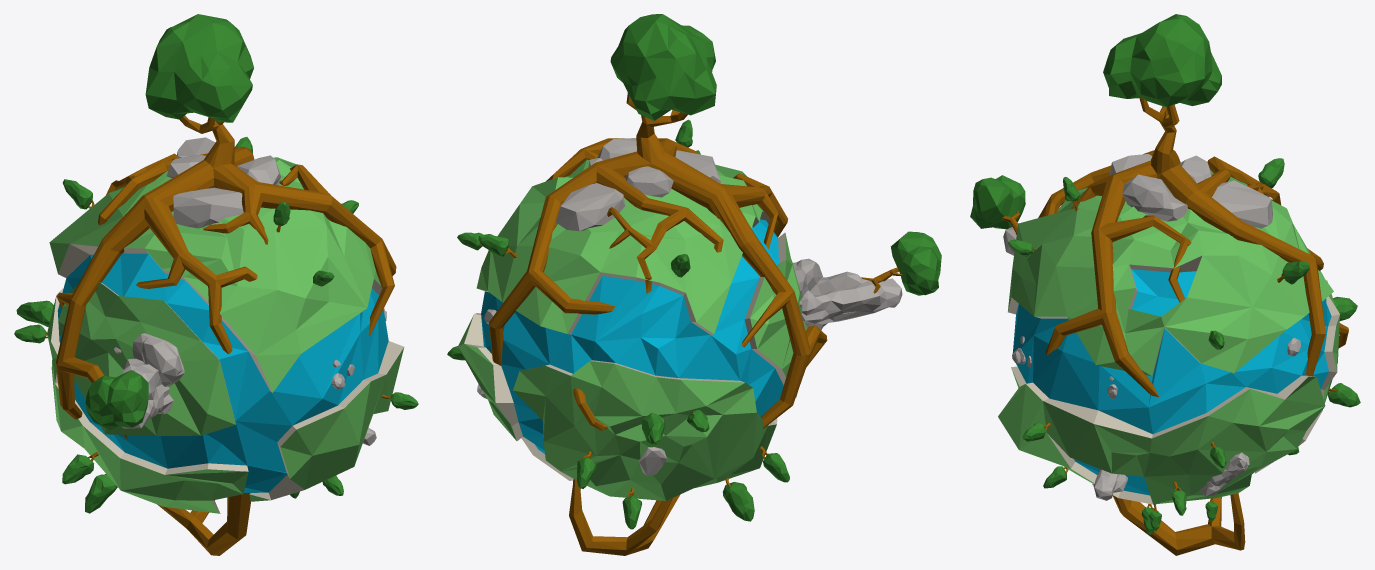
The model's file is Planet_vegetal.fbx.
The picture shows the model from 3 angles, left to right: view 1: azimuth 30°, elevation 25°; view 2: azimuth 150°, elevation 25°; view 3: azimuth 270°, elevation 25°; orthographic projection. The views are drawn at different scales.
Parts seen in each view (by area): view 1: Planet_vegetal; view 2: Planet_vegetal; view 3: Planet_vegetal.
Part boxes in pixels (x1=…): Planet_vegetal: x1=14, y1=14, x2=418, y2=555; Planet_vegetal: x1=447, y1=14, x2=941, y2=555; Planet_vegetal: x1=970, y1=14, x2=1360, y2=555.
Size of the model in its own units: 155 by 208 by 139.
